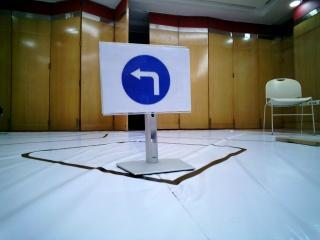left: (102, 42, 189, 110)
